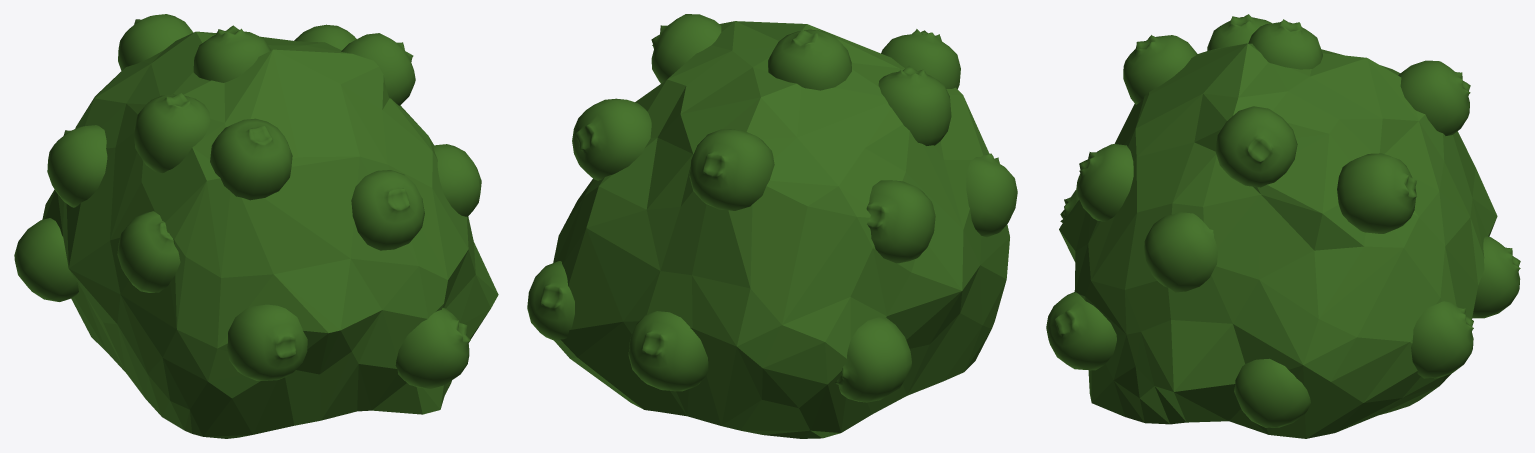
The model's file is Plant4.fbx.
3 views of the same model, side by side, from view 1: azimuth 30°, elevation 25°; view 2: azimuth 150°, elevation 25°; view 3: azimuth 270°, elevation 25° (orthographic). The views are drawn at different scales.
Parts seen in each view (by area): view 1: Plane.084, Cube.009, Cube.006, Cube.008, Cube.011, Cube.007, Cube.012, Cube.010, Cube.005, Cube.014, Cube.015, Cube.013 (+2 smaller); view 2: Plane.084, Cube.013, Cube.018, Cube.003, Cube.005, Cube.012, Cube.014, Cube.011, Cube.010, Cube.015, Cube.001, Cube.009; view 3: Plane.084, Cube.003, Cube.015, Cube.002, Cube.007, Cube.004, Cube.001, Cube.013, Cube.008, Cube.009, Cube.018, Cube.014 (+1 smaller).
Boxes of the visible parts, box(x1,y1,x2,y2) form: Plane.084: box(42, 31, 498, 438); Cube.009: box(210, 118, 292, 200); Cube.006: box(227, 304, 307, 380); Cube.008: box(351, 170, 424, 250); Cube.011: box(134, 93, 210, 173); Cube.007: box(395, 307, 470, 388); Cube.012: box(47, 125, 107, 207); Cube.010: box(117, 211, 180, 292); Cube.005: box(14, 218, 78, 301); Cube.014: box(193, 25, 271, 82); Cube.015: box(341, 33, 415, 105); Cube.013: box(118, 14, 193, 70); Plane.084: box(553, 21, 1009, 438); Cube.013: box(689, 129, 774, 210); Cube.018: box(628, 311, 708, 391); Cube.003: box(572, 98, 651, 180); Cube.005: box(834, 317, 911, 402); Cube.012: box(866, 180, 935, 263); Cube.014: box(768, 29, 851, 90); Cube.011: box(878, 65, 951, 145); Cube.010: box(966, 153, 1017, 237); Cube.015: box(651, 14, 721, 83); Cube.001: box(527, 261, 574, 342); Cube.009: box(881, 29, 960, 89); Plane.084: box(1059, 43, 1497, 438); Cube.003: box(1337, 153, 1416, 233); Cube.015: box(1215, 106, 1297, 187); Cube.002: box(1144, 212, 1217, 292); Cube.007: box(1046, 292, 1116, 370); Cube.004: box(1234, 358, 1310, 427); Cube.001: box(1411, 301, 1473, 378); Cube.013: box(1398, 60, 1470, 135); Cube.008: box(1076, 144, 1133, 221); Cube.009: box(1123, 35, 1197, 104); Cube.018: box(1472, 236, 1520, 318); Cube.014: box(1248, 19, 1322, 69).
Size of the model in its own units: 217 by 184 by 234.
